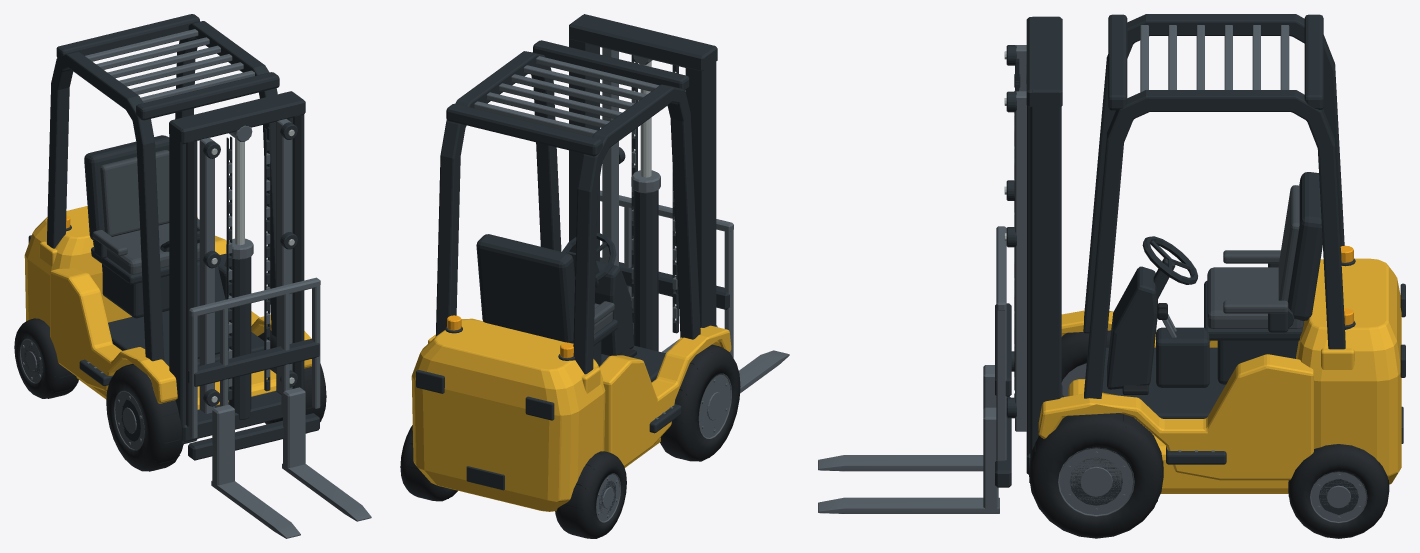
The model's file is forklift.glb.
The picture shows the model from 3 angles, left to right: view 1: azimuth 30°, elevation 25°; view 2: azimuth 150°, elevation 25°; view 3: azimuth 270°, elevation 25°; orthographic projection. The views are drawn at different scales.
Visible parts, largest first — view 1: forklift_root__material_00, pivot_carriage, forklift_root__material_04, forklift_root__material_02, pivot_wheel_front_left_spin, forklift_root__material_26, forklift_root__material_03, pivot_wheel_rear_left_spin, forklift_root__material_05, pivot_wheel_front_right_spin; view 2: forklift_root__material_00, forklift_root__material_02, forklift_root__material_04, pivot_wheel_front_left_spin, pivot_wheel_rear_left_spin, pivot_carriage, pivot_wheel_rear_right_spin, forklift_root__material_05, pivot_steering_wheel, forklift_root__material_26; view 3: forklift_root__material_00, forklift_root__material_02, pivot_wheel_front_right_spin, pivot_carriage, forklift_root__material_04, pivot_wheel_rear_right_spin, forklift_root__material_26, forklift_root__material_03, pivot_wheel_front_left_spin, pivot_steering_wheel.
Part boxes in pixels (x1,y1,x2,y2): forklift_root__material_00: (28,14,305,444); pivot_carriage: (188,277,371,538); forklift_root__material_04: (85,29,292,414); forklift_root__material_02: (24,206,311,409); pivot_wheel_front_left_spin: (106,364,183,471); forklift_root__material_26: (92,150,199,274); forklift_root__material_03: (186,115,301,426); pivot_wheel_rear_left_spin: (14,318,78,398); forklift_root__material_05: (211,129,294,402); pivot_wheel_front_right_spin: (258,330,326,433); forklift_root__material_00: (416,14,717,490); forklift_root__material_02: (411,318,731,511); forklift_root__material_04: (474,47,677,419); pivot_wheel_front_left_spin: (660,344,740,461); pivot_wheel_rear_left_spin: (555,451,626,538); pivot_carriage: (600,190,789,393); pivot_wheel_rear_right_spin: (400,425,457,501); forklift_root__material_05: (640,61,651,177); pivot_steering_wheel: (562,233,616,281); forklift_root__material_26: (572,301,614,343); forklift_root__material_00: (1006,14,1405,474); forklift_root__material_02: (1038,258,1401,493); pivot_wheel_front_right_spin: (1029,413,1163,538); pivot_carriage: (818,226,1011,513); forklift_root__material_04: (1014,25,1289,452); pivot_wheel_rear_right_spin: (1288,444,1389,538); forklift_root__material_26: (1207,185,1303,328); forklift_root__material_03: (1027,106,1167,454); pivot_wheel_front_left_spin: (1061,330,1110,397); pivot_steering_wheel: (1142,236,1197,284).
Size of the model in its own units: 1.11 by 2.15 by 2.62.
